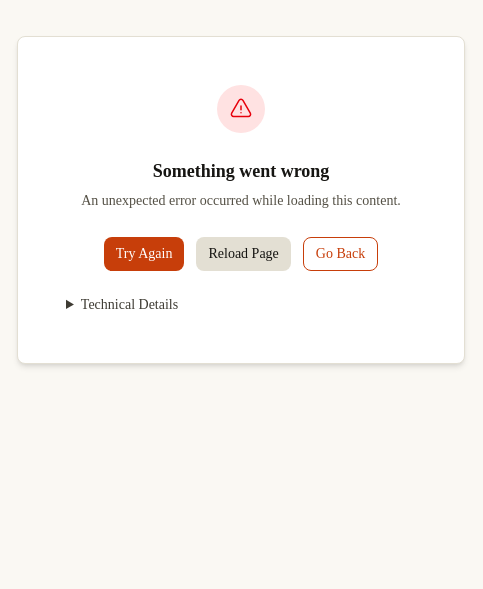
Test: ErrorFallback component › Error details › displays boundary name in technical details
The image size is (483, 589).
// Click to expand details
Click the heading "Technical Details": [130, 305] box x1=81 y1=297 x2=178 y2=312
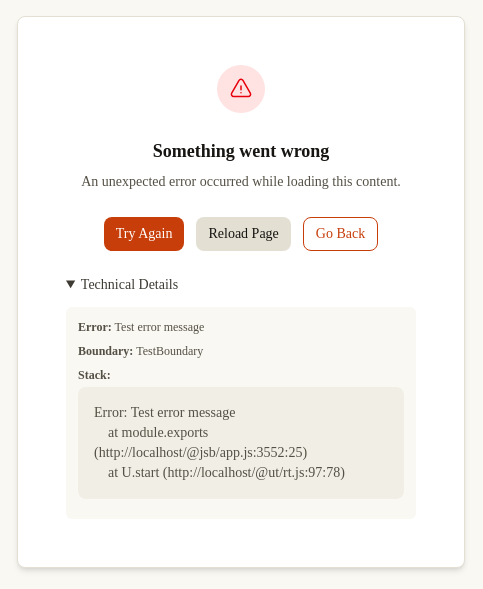
Expected: the text "TestBoundary" is shown, x1=136 y1=344 x2=203 y2=358
